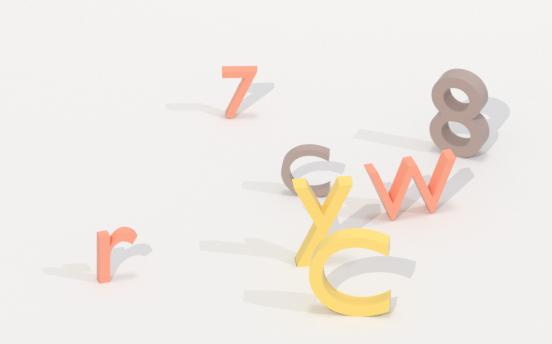7: (220, 63, 260, 120)
8: (429, 65, 491, 160)
R: (92, 223, 142, 292)
Y: (290, 175, 354, 269)
c: (308, 225, 394, 320), (280, 139, 336, 200)
w: (360, 146, 460, 225)
